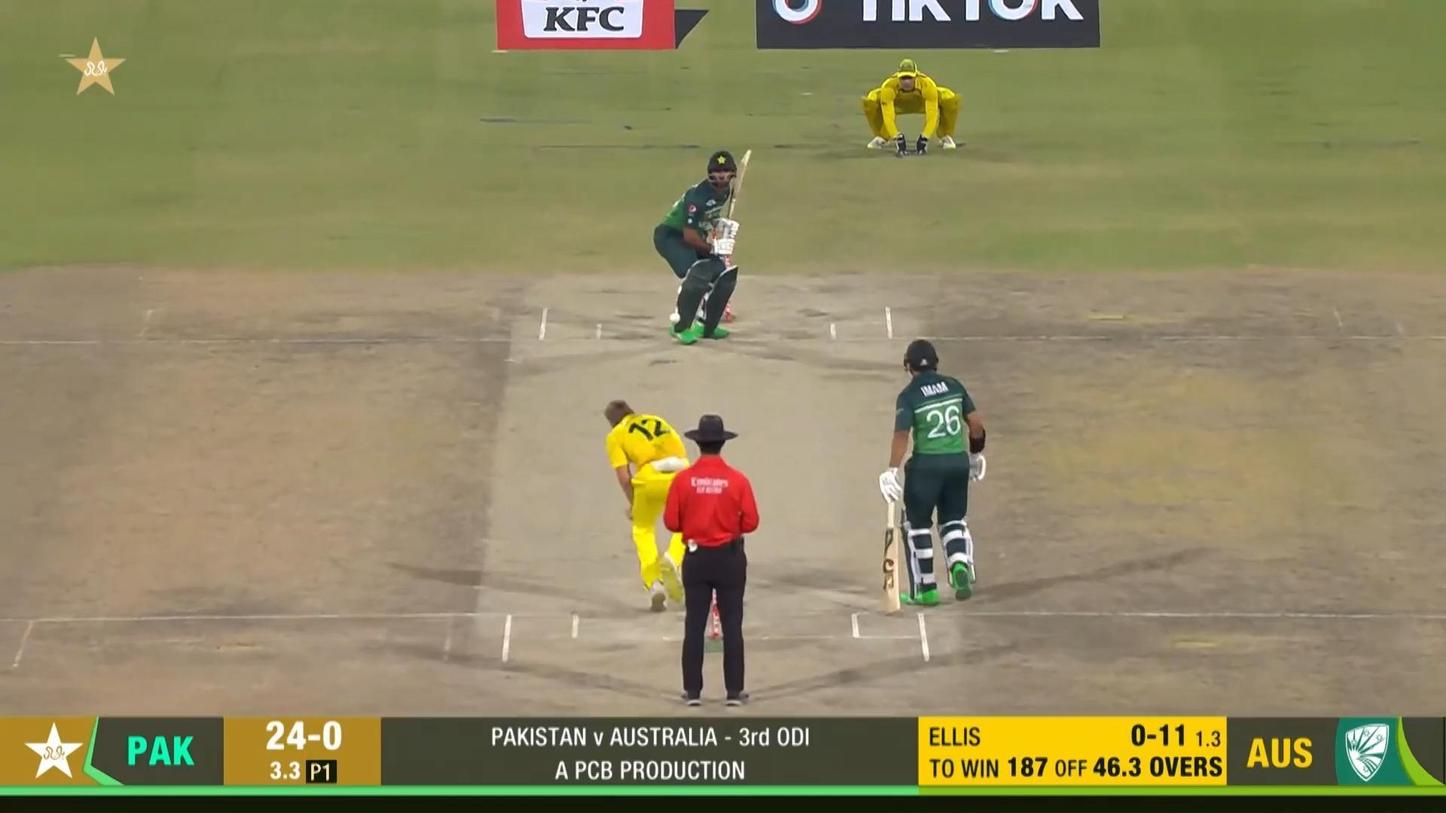BM 1: (651, 145, 753, 349)
BO: (602, 398, 700, 615)
